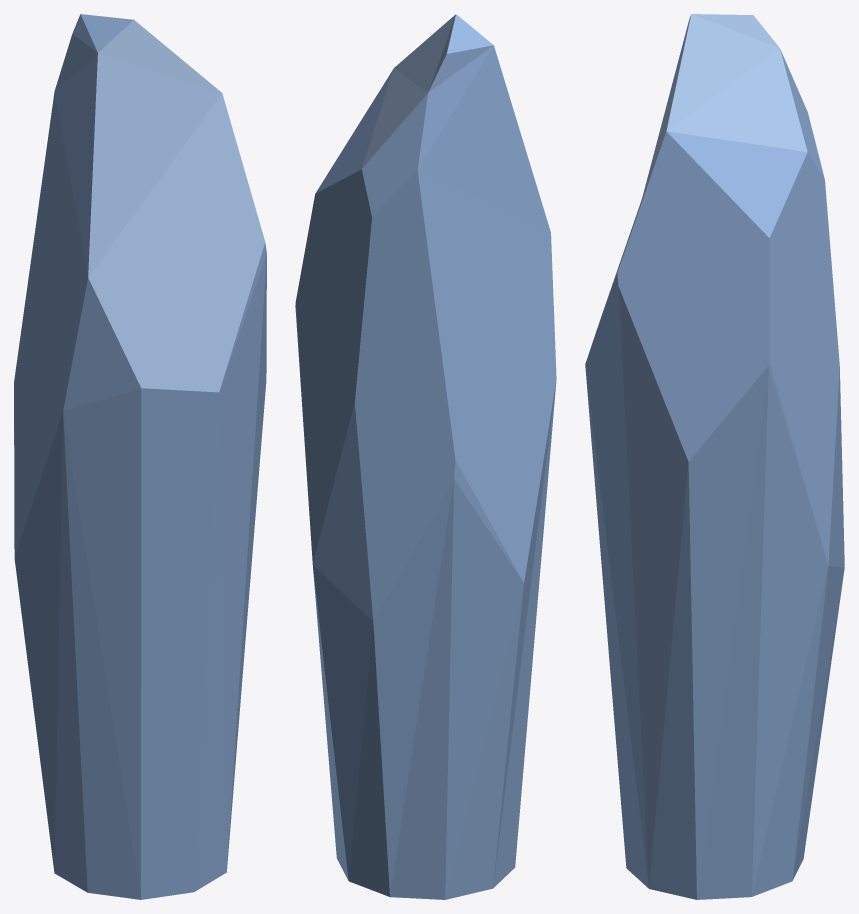
File: crystal_6.fbx
3 renders of one model, left to right at view 1: azimuth 30°, elevation 25°; view 2: azimuth 150°, elevation 25°; view 3: azimuth 270°, elevation 25°, orthographic.
Parts seen in each view (by area): view 1: crystal_6; view 2: crystal_6; view 3: crystal_6.
Boxes of the visible parts, left/top/right/bottom form: crystal_6: left=14, top=14, right=266, bottom=899; crystal_6: left=295, top=14, right=556, bottom=899; crystal_6: left=585, top=14, right=844, bottom=899.
Bounding box in the file's own units: 31.7 × 115 × 32.17.
